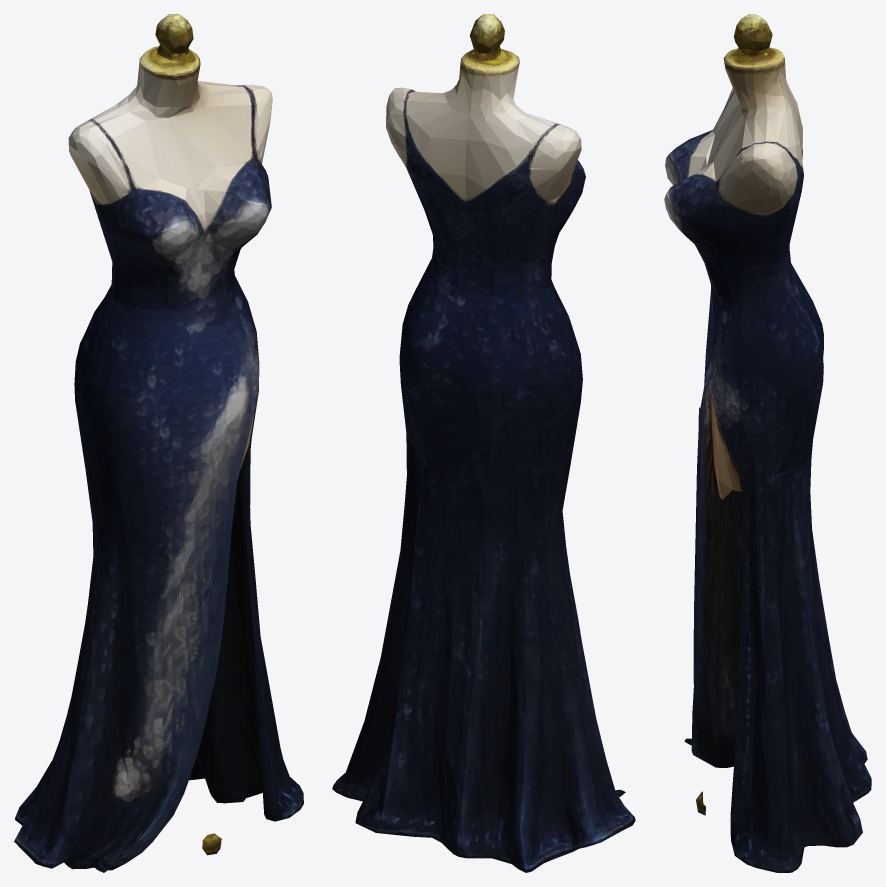
3 renders of one model, left to right at view 1: azimuth 30°, elevation 25°; view 2: azimuth 150°, elevation 25°; view 3: azimuth 270°, elevation 25°, orthographic. The views are drawn at different scales.
Visible parts, largest first — view 1: geometry_0; view 2: geometry_0; view 3: geometry_0.
Part boxes in pixels (x1,y1,x2,y2): geometry_0: (14, 14, 303, 872); geometry_0: (332, 14, 635, 872); geometry_0: (664, 14, 871, 872).
Bounding box in the file's own units: 0.3656 × 1 × 0.2375.
1 material, 1 textured.
